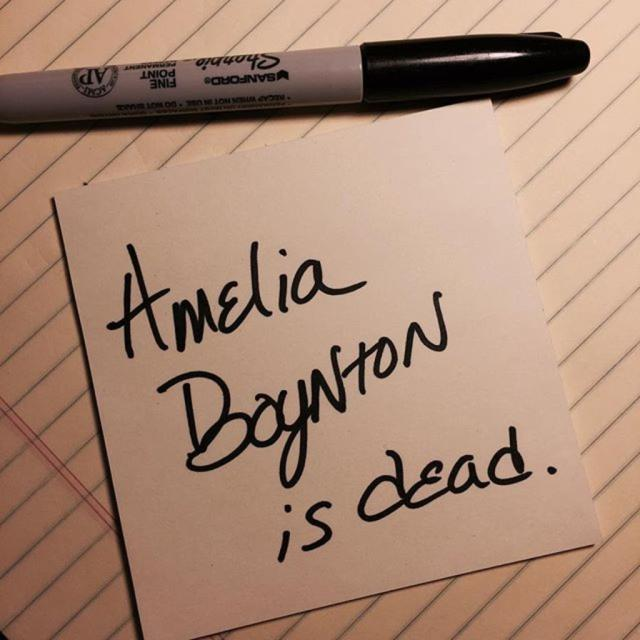pen: (0, 34, 593, 126)
